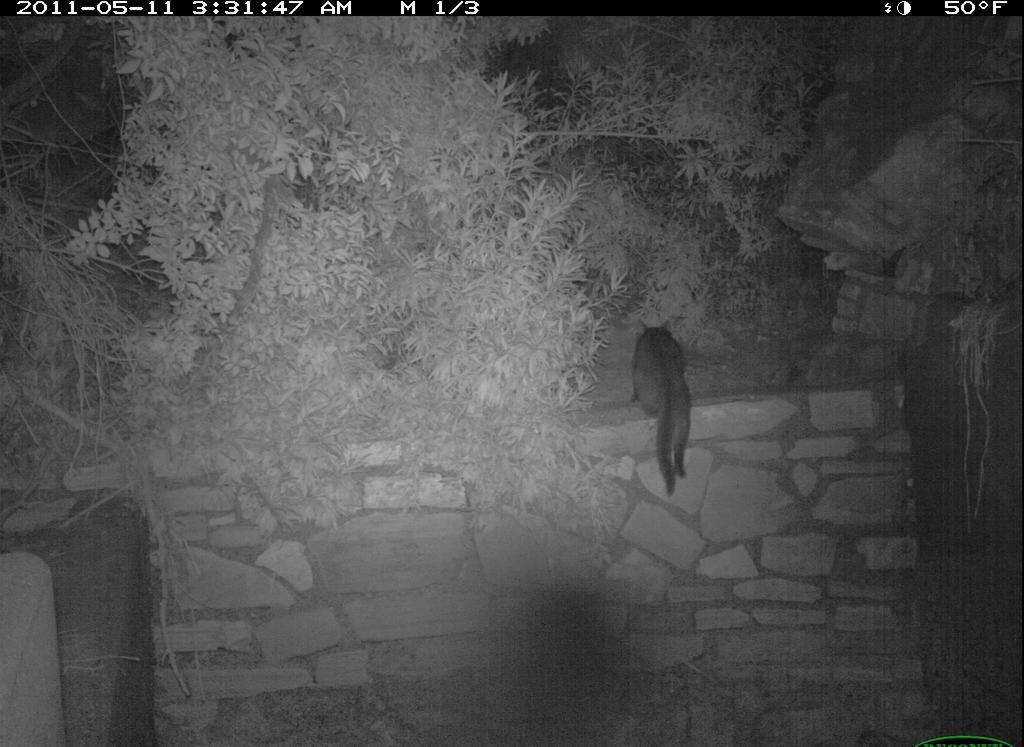cat: (612, 314, 715, 505)
